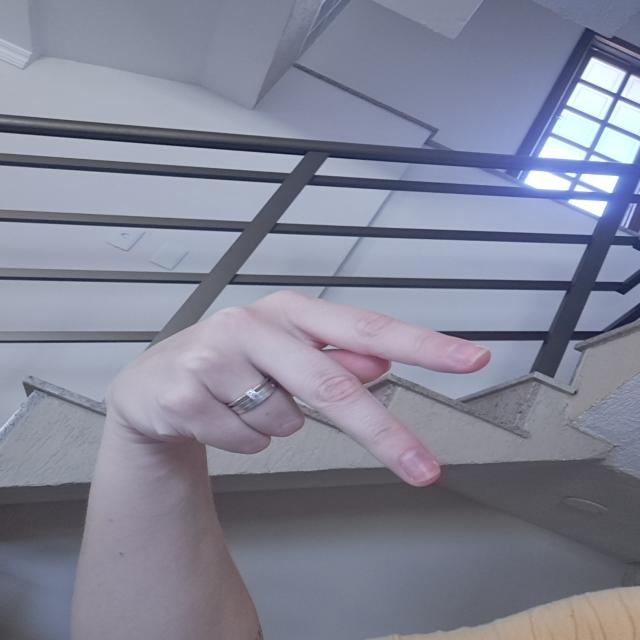P: (94, 278, 513, 502)
